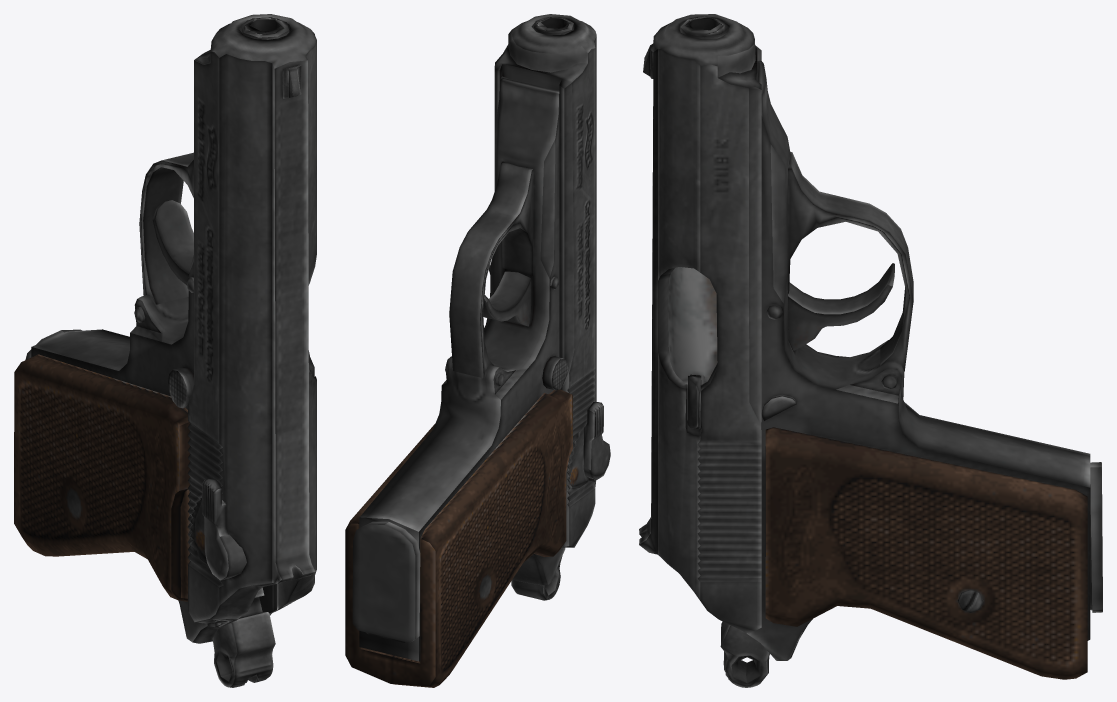
Rendered from WaltherPPK.fbx.
3 renders of one model, left to right at view 1: azimuth 30°, elevation 25°; view 2: azimuth 150°, elevation 25°; view 3: azimuth 270°, elevation 25°, orthographic. The views are drawn at different scales.
Parts seen in each view (by area): view 1: Waltherppk; view 2: Waltherppk; view 3: Waltherppk.
Part boxes in pixels (<box>): Waltherppk: <box>14,14,316,687</box>; Waltherppk: <box>345,14,610,687</box>; Waltherppk: <box>639,14,1102,687</box>.
Bounding box in the file's own units: 0.0245 × 0.1363 × 0.0873.
